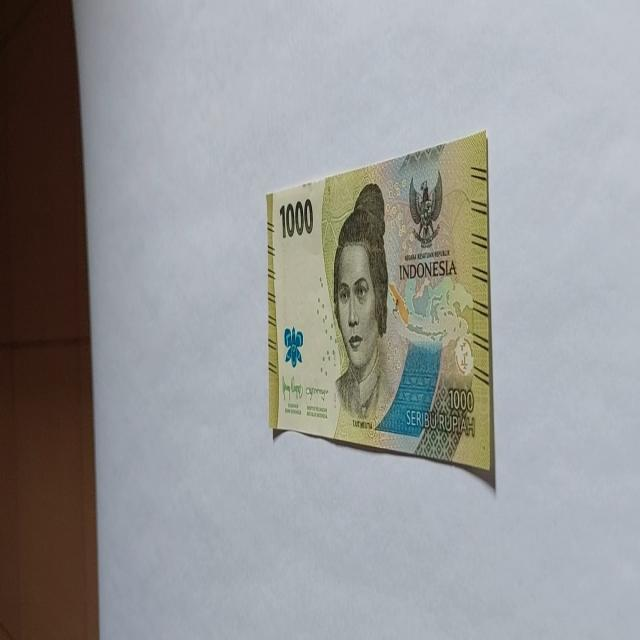seribu rupiah kertas: (266, 129, 494, 488)
